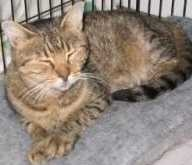Cat: (8, 11, 191, 161)
